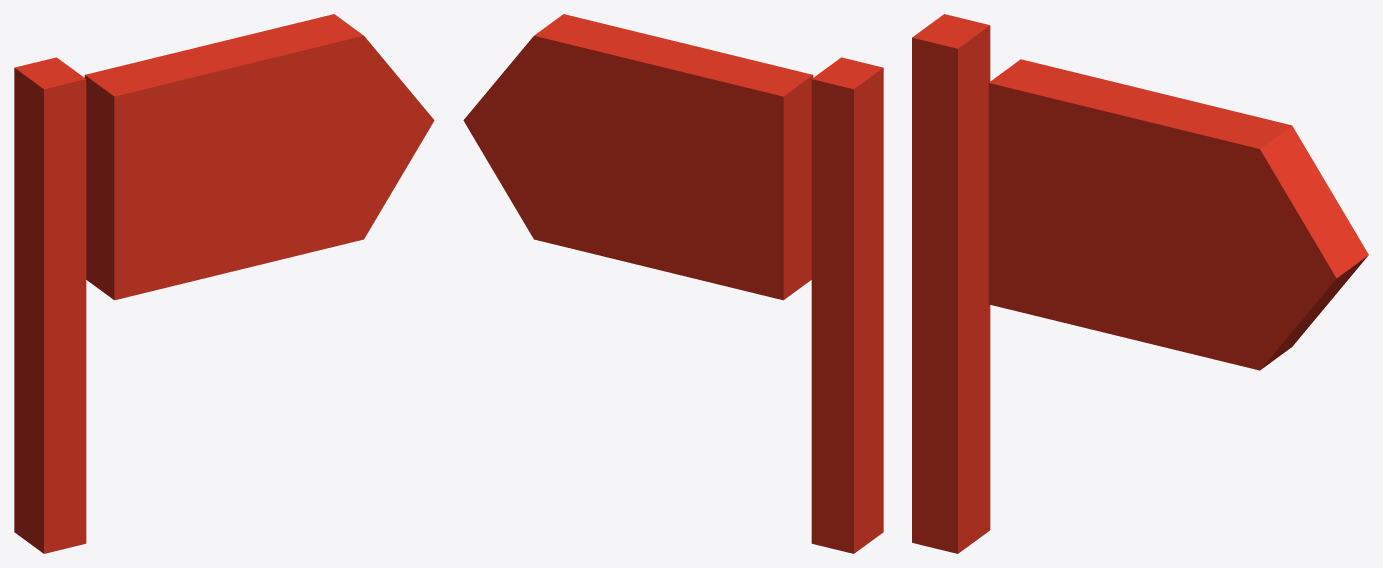
File: Icon_Flag_01.fbx
The picture shows the model from 3 angles, left to right: view 1: azimuth 30°, elevation 25°; view 2: azimuth 150°, elevation 25°; view 3: azimuth 330°, elevation 25°; orthographic projection. The views are drawn at different scales.
Visible parts, largest first — view 1: Icon_Flag_01; view 2: Icon_Flag_01; view 3: Icon_Flag_01.
Boxes of the visible parts, left/top/right/bottom form: Icon_Flag_01: left=14, top=14, right=434, bottom=553; Icon_Flag_01: left=463, top=14, right=883, bottom=553; Icon_Flag_01: left=912, top=14, right=1368, bottom=553.
Size of the model in its own units: 62.62 by 71.19 by 8.25.
